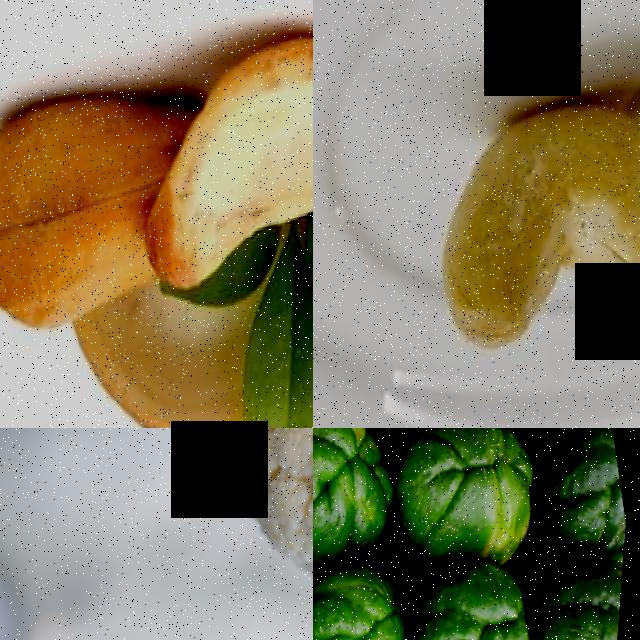cashew: (402, 49, 640, 379), (131, 0, 313, 318), (0, 69, 204, 349)
cauliflower: (104, 428, 313, 640)
chayote: (387, 428, 554, 581), (313, 428, 415, 587), (503, 562, 628, 640), (313, 558, 425, 640), (410, 574, 529, 640)
